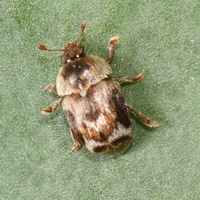insect: (38, 21, 160, 155)
